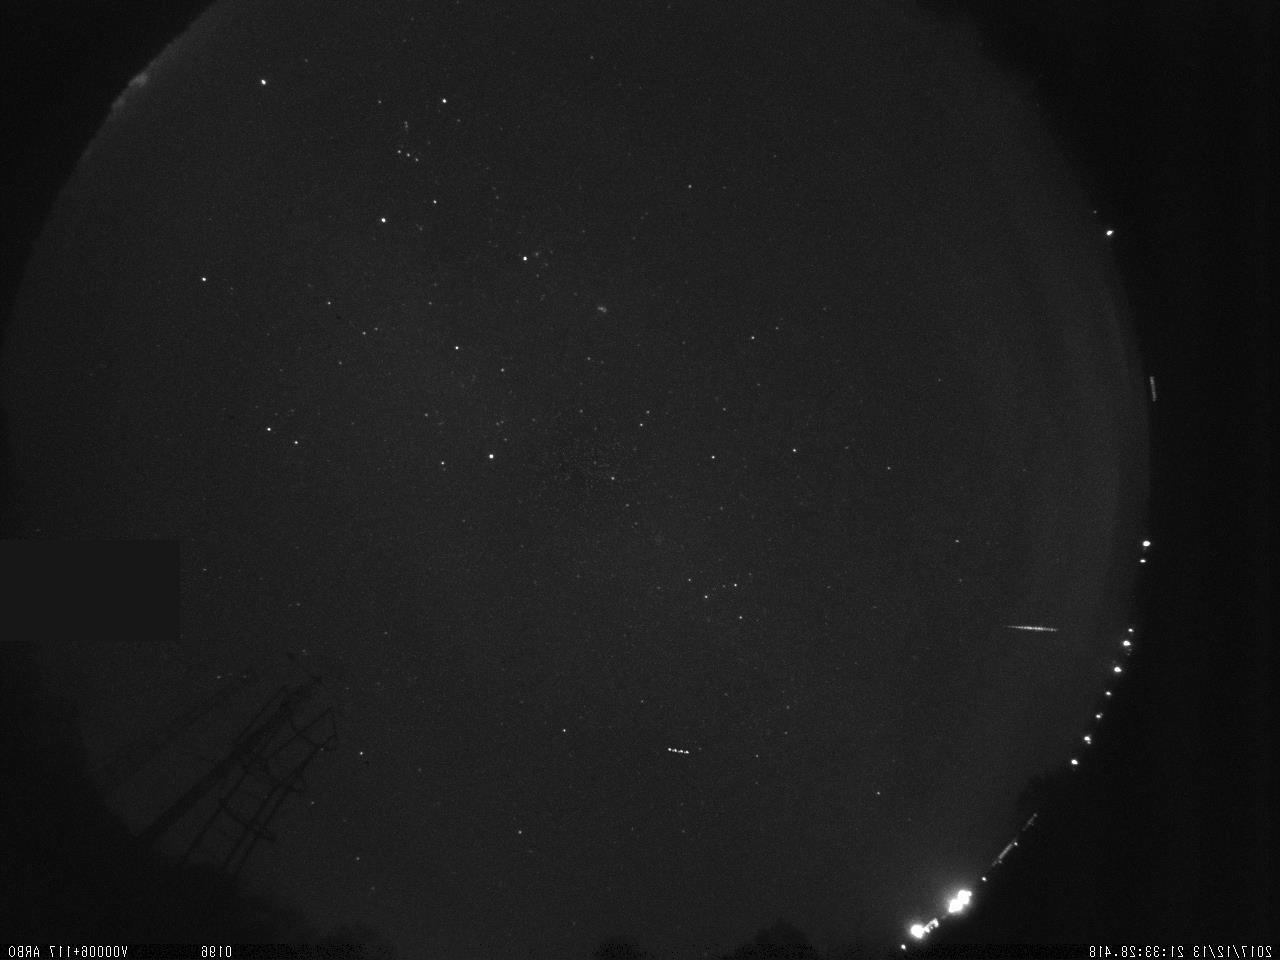meteor: (992, 616, 1065, 639)
satelite: (662, 738, 693, 762)
